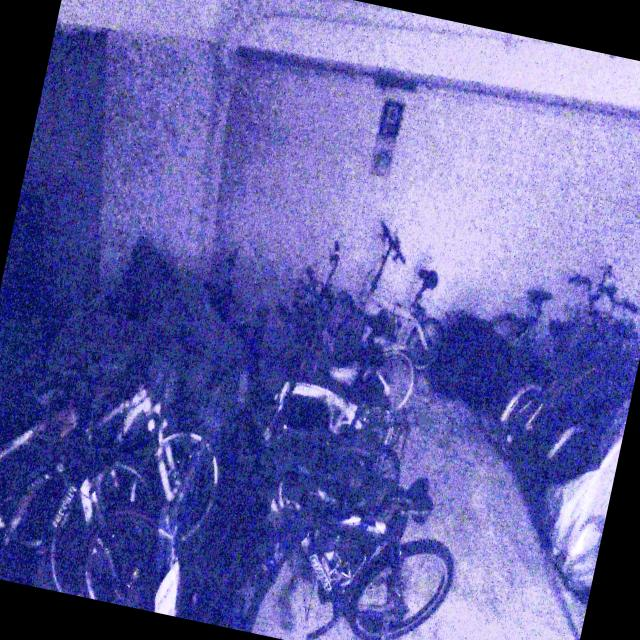bike: (0, 330, 241, 591), (222, 441, 472, 640), (473, 251, 640, 422), (316, 211, 468, 381)
